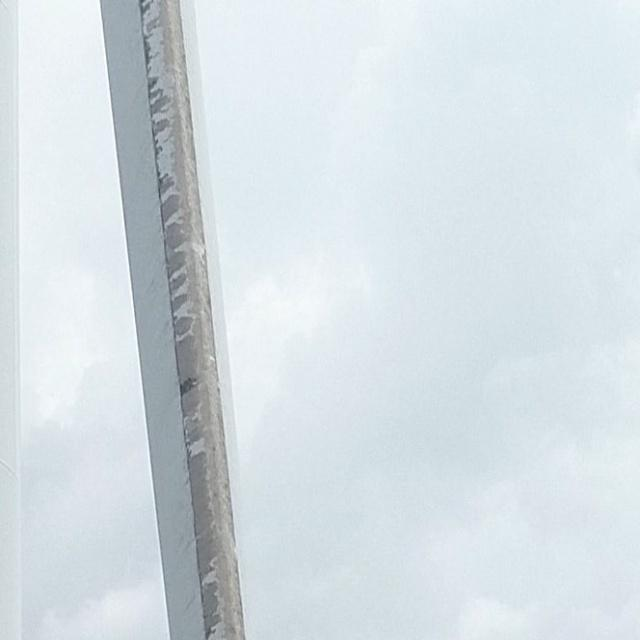PU-tape: (138, 0, 201, 384), (180, 378, 215, 538), (196, 525, 222, 640)
